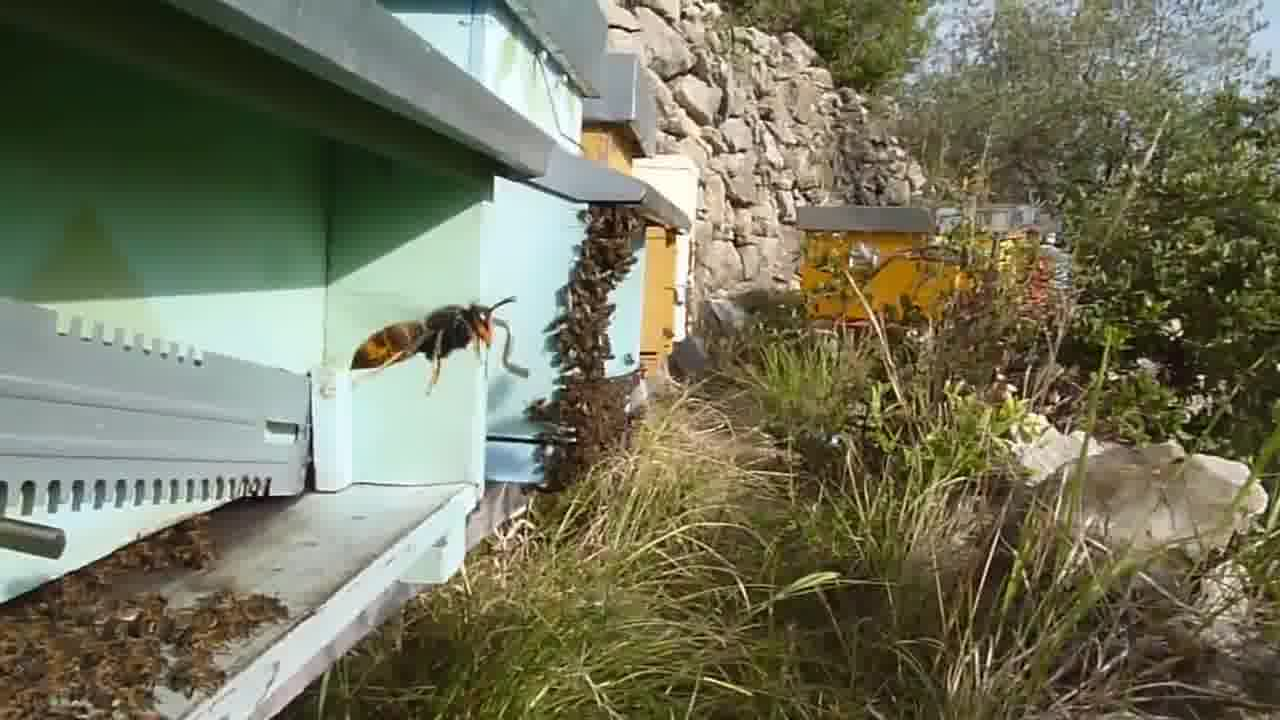bee: (4, 600, 161, 720), (170, 582, 295, 693), (538, 378, 628, 459), (551, 282, 622, 374), (568, 202, 645, 281), (112, 523, 213, 576)
hornet: (346, 291, 516, 380), (1139, 322, 1194, 395)
